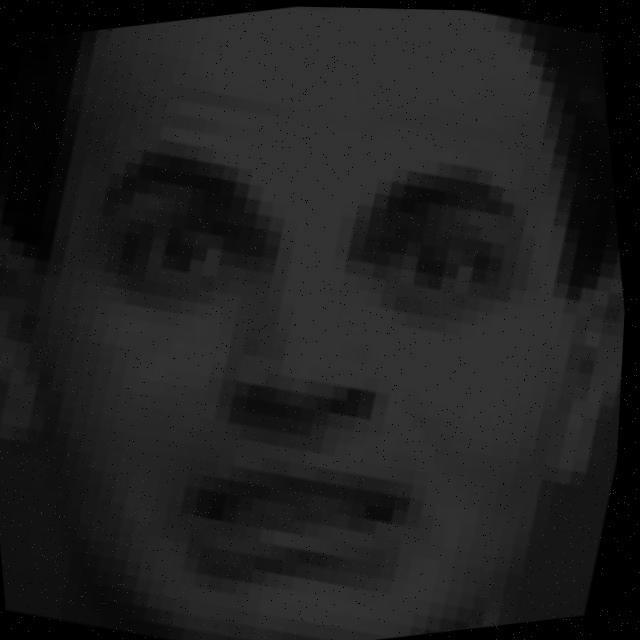Disgust: (66, 125, 579, 580)
